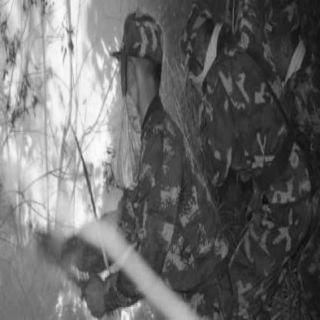Fire: (120, 294, 156, 318)
